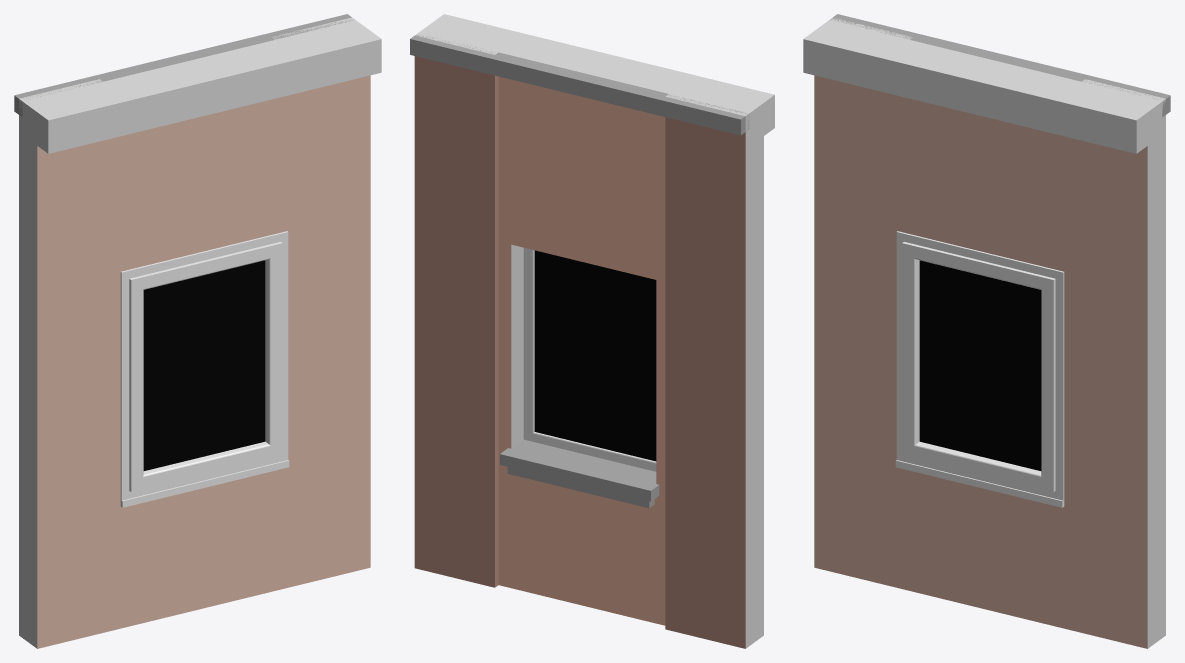
The model's file is EntranceWall_Window_Top.fbx.
The picture shows the model from 3 angles, left to right: view 1: azimuth 30°, elevation 25°; view 2: azimuth 150°, elevation 25°; view 3: azimuth 330°, elevation 25°; orthographic projection.
Parts seen in each view (by area): view 1: EntranceWall_Window_Top; view 2: EntranceWall_Window_Top; view 3: EntranceWall_Window_Top.
Part boxes in pixels (<box>): EntranceWall_Window_Top: <box>14,14,381,648</box>; EntranceWall_Window_Top: <box>410,14,774,648</box>; EntranceWall_Window_Top: <box>803,14,1170,648</box>.
Bounding box in the file's own units: 2.6 × 4 × 0.4635.
